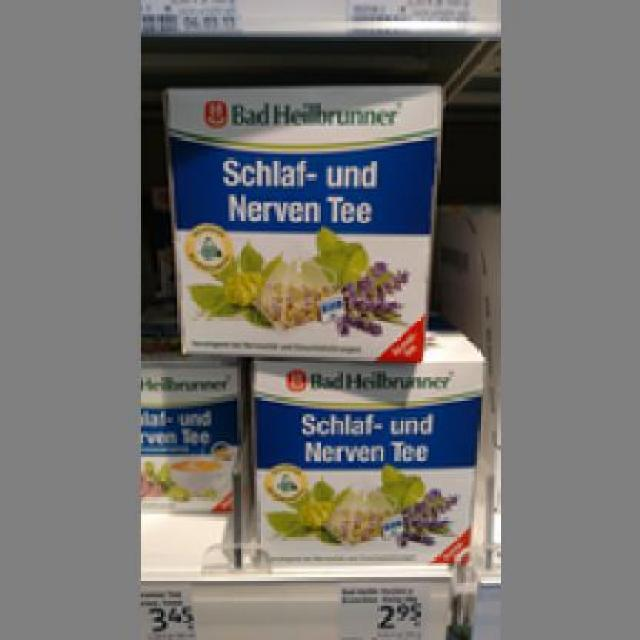Tea: (160, 77, 440, 357), (246, 349, 480, 560)
